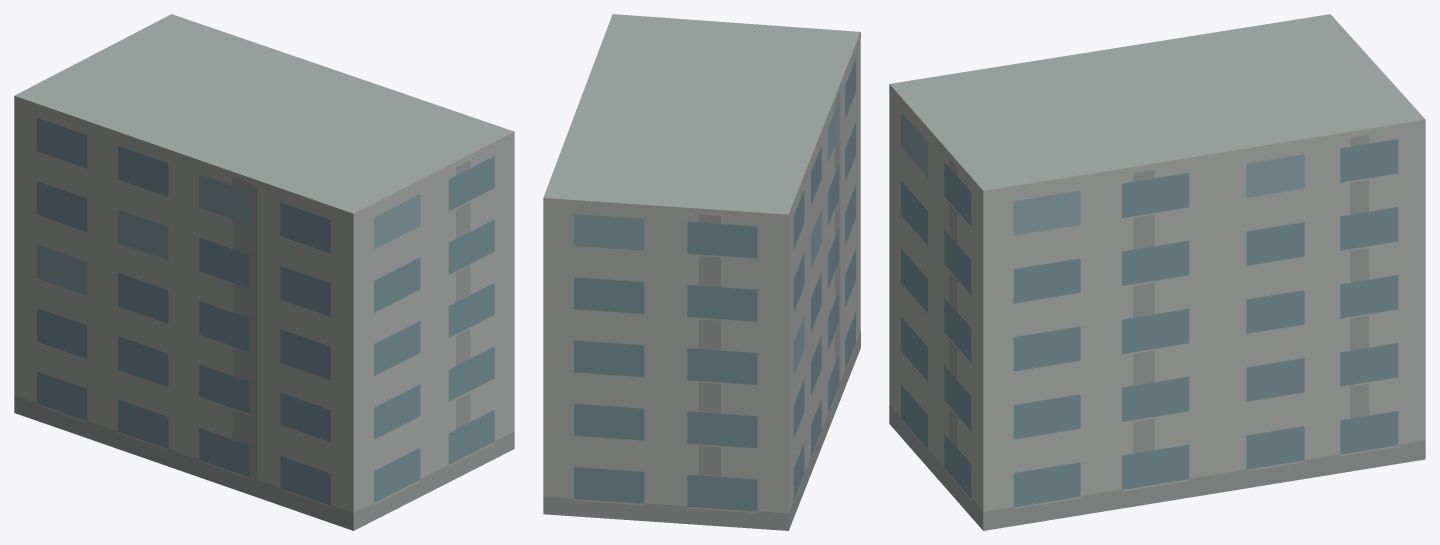
The model's file is survey-upis-32571624.glb.
3 views of the same model, side by side, from view 1: azimuth 30°, elevation 25°; view 2: azimuth 150°, elevation 25°; view 3: azimuth 270°, elevation 25° (orthographic). The views are drawn at different scales.
Parts seen in each view (by area): view 1: survey-upis-32571624.tmp; view 2: survey-upis-32571624.tmp; view 3: survey-upis-32571624.tmp.
Part boxes in pixels (x1,y1,x2,y2): survey-upis-32571624.tmp: (14, 14, 514, 530); survey-upis-32571624.tmp: (543, 14, 860, 530); survey-upis-32571624.tmp: (889, 14, 1425, 530).
Bounding box in the file's own units: 14.53 × 13 × 18.6.
